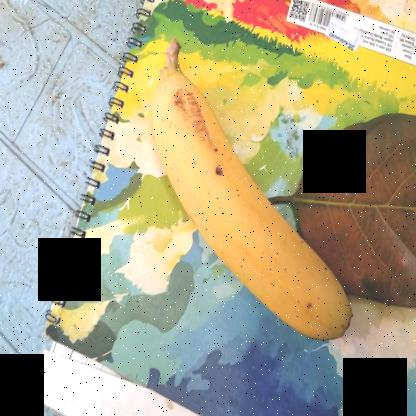freshripe: (151, 69, 358, 347)
